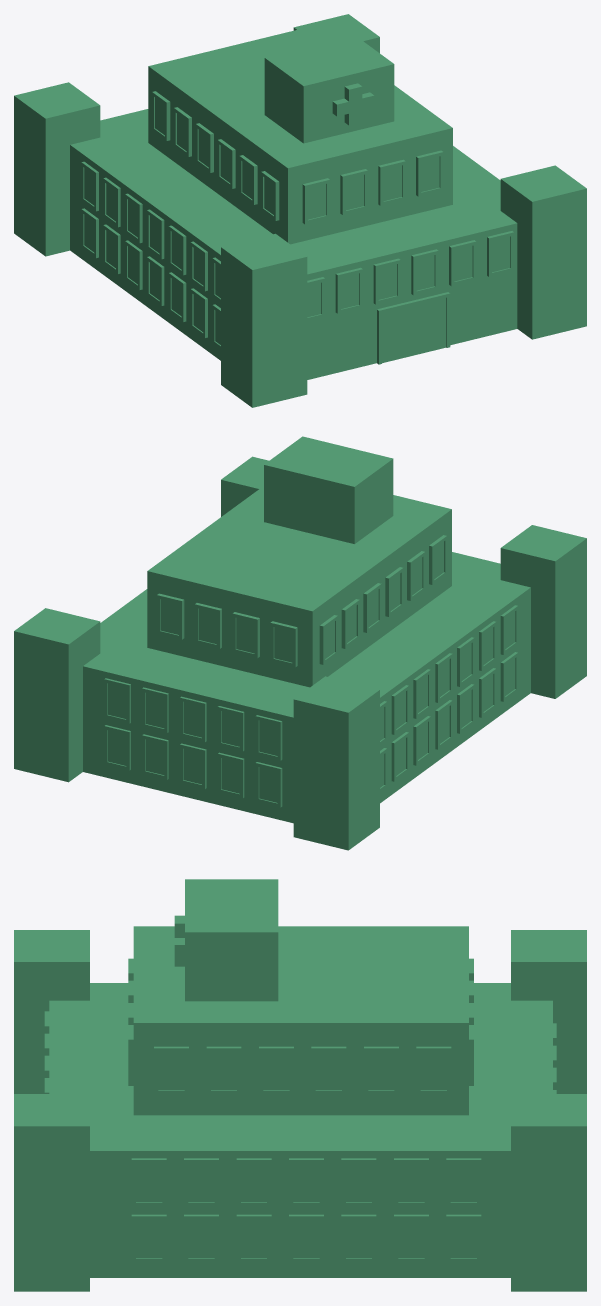
The model's file is Hospital.fbx.
3 views of the same model, one above another, from view 1: azimuth 30°, elevation 25°; view 2: azimuth 150°, elevation 25°; view 3: azimuth 270°, elevation 25° (orthographic). The views are drawn at different scales.
Parts seen in each view (by area): view 1: Hospital.001; view 2: Hospital.001; view 3: Hospital.001.
Part boxes in pixels (bbox=[...]): Hospital.001: bbox=[14, 14, 586, 407]; Hospital.001: bbox=[14, 436, 586, 850]; Hospital.001: bbox=[14, 879, 586, 1291].
Bounding box in the file's own units: 1409 × 965 × 1740.
